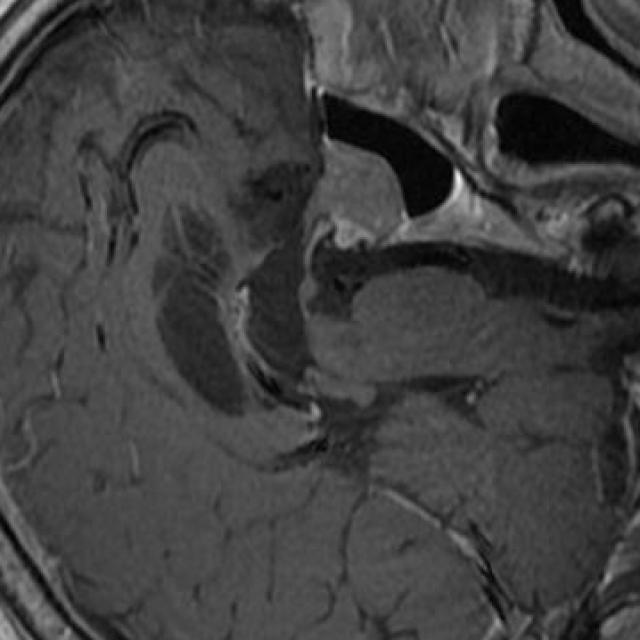pituitary: (301, 139, 414, 248)
